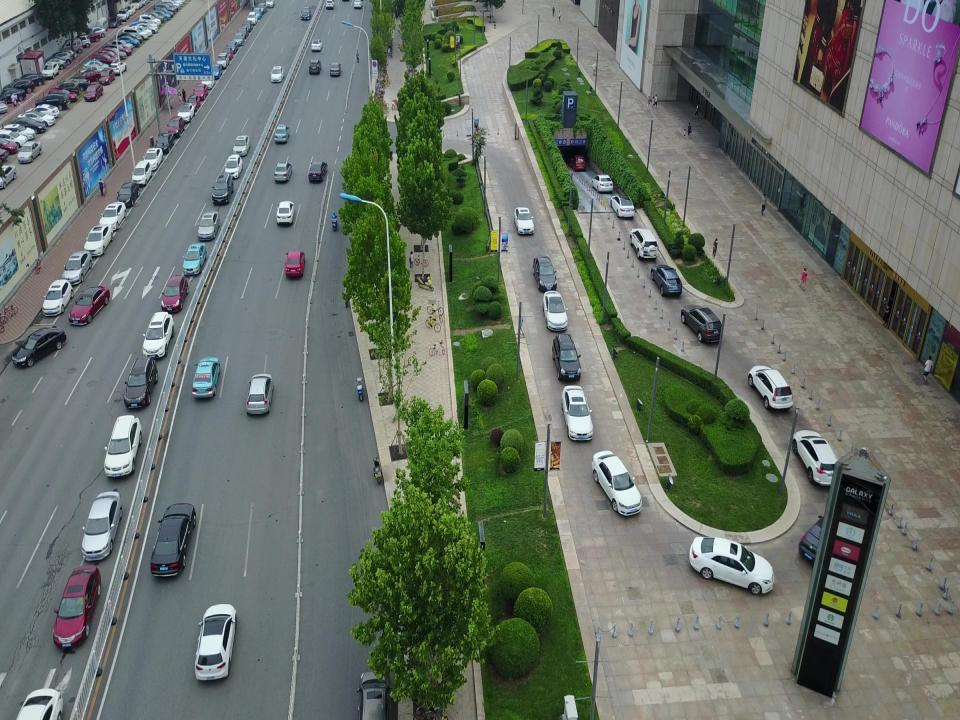car: (688, 535, 774, 596), (52, 565, 102, 650), (150, 502, 196, 579), (194, 602, 238, 682), (591, 449, 642, 517), (791, 429, 843, 489), (798, 507, 850, 564), (81, 491, 123, 561), (12, 325, 68, 368), (104, 415, 142, 478), (747, 365, 794, 411), (354, 670, 392, 720), (10, 686, 65, 720), (562, 384, 594, 442), (123, 357, 158, 408), (68, 285, 110, 327), (681, 304, 723, 344), (141, 311, 175, 359), (552, 333, 582, 382), (41, 279, 74, 317), (191, 356, 220, 399), (246, 373, 274, 416), (650, 264, 683, 298), (542, 290, 568, 331), (161, 275, 189, 313), (629, 227, 659, 260), (83, 223, 113, 256), (63, 251, 92, 285), (532, 255, 557, 293), (98, 200, 126, 230), (182, 243, 207, 276), (211, 172, 235, 204), (198, 211, 221, 241), (16, 110, 56, 127), (610, 193, 634, 220), (34, 92, 70, 110), (513, 206, 534, 236), (116, 181, 140, 207), (284, 250, 306, 278), (7, 118, 45, 134), (1, 123, 35, 140), (24, 103, 60, 119), (17, 142, 42, 164), (223, 154, 243, 180), (0, 130, 27, 148), (3, 78, 35, 93), (276, 200, 294, 226), (591, 173, 613, 194), (143, 148, 163, 171), (0, 164, 17, 191), (308, 160, 328, 182), (166, 116, 186, 137), (48, 89, 78, 103), (16, 72, 46, 86), (0, 88, 26, 104), (82, 59, 109, 74), (154, 133, 174, 153), (233, 135, 251, 157), (79, 63, 103, 79), (274, 162, 292, 183), (64, 77, 90, 91), (52, 81, 78, 95), (177, 102, 195, 122), (84, 84, 104, 102), (40, 62, 60, 80), (569, 153, 586, 172), (274, 124, 290, 144), (77, 70, 99, 84), (0, 137, 18, 154), (192, 82, 208, 100), (99, 68, 115, 85), (186, 93, 200, 112), (44, 58, 66, 70), (270, 65, 284, 83), (200, 73, 214, 90), (216, 52, 230, 69), (108, 62, 126, 75), (308, 59, 322, 75), (330, 61, 342, 77), (210, 64, 222, 79), (300, 6, 312, 20), (246, 11, 258, 25), (222, 46, 233, 61), (226, 40, 238, 53), (233, 33, 245, 46), (237, 26, 249, 39), (241, 19, 252, 33), (256, 3, 268, 15), (311, 40, 322, 52), (252, 7, 262, 20), (325, 0, 335, 9), (354, 0, 362, 8)
van: (132, 161, 152, 185)
